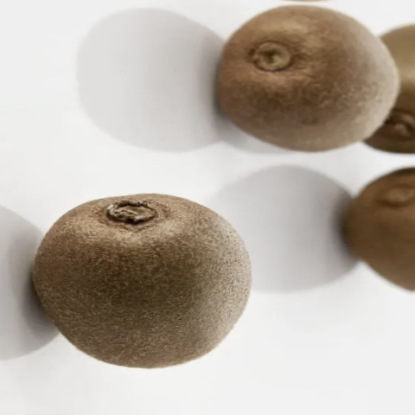kiwi: (16, 173, 271, 388), (197, 0, 404, 176)
